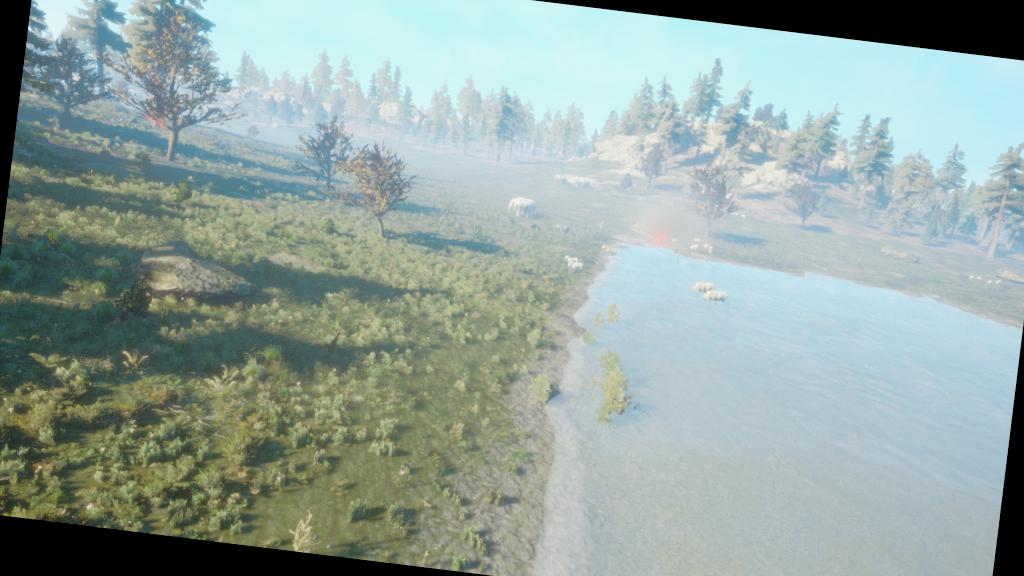Fire: (142, 95, 174, 130), (644, 222, 674, 250)
elephant: (504, 194, 538, 222), (568, 172, 596, 192), (550, 173, 570, 190)
hippopotamus: (551, 222, 572, 236)
human: (704, 258, 716, 272), (706, 244, 716, 256), (597, 219, 606, 232)
lion: (604, 247, 620, 259), (599, 244, 612, 254)
rhinoceros: (698, 288, 732, 307), (688, 278, 716, 296)
smoke: (638, 182, 704, 252)
zebra: (566, 258, 586, 274), (562, 254, 580, 266)
